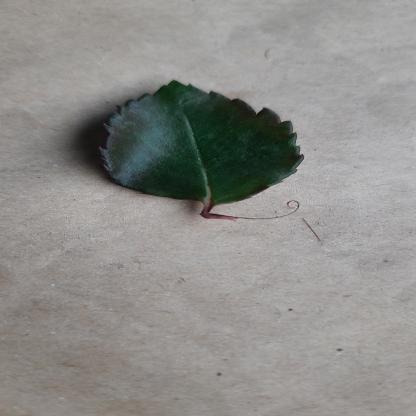normal: (82, 79, 310, 205)
